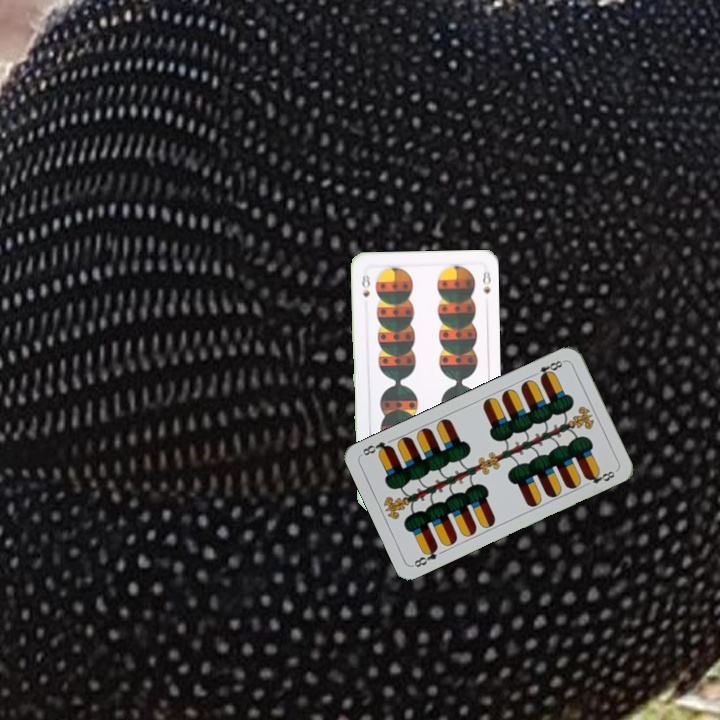E8: (529, 356, 567, 382), (409, 542, 440, 570)
S8: (358, 269, 373, 299)
